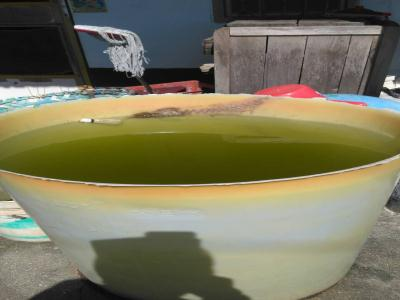bucket: (1, 91, 400, 300)
